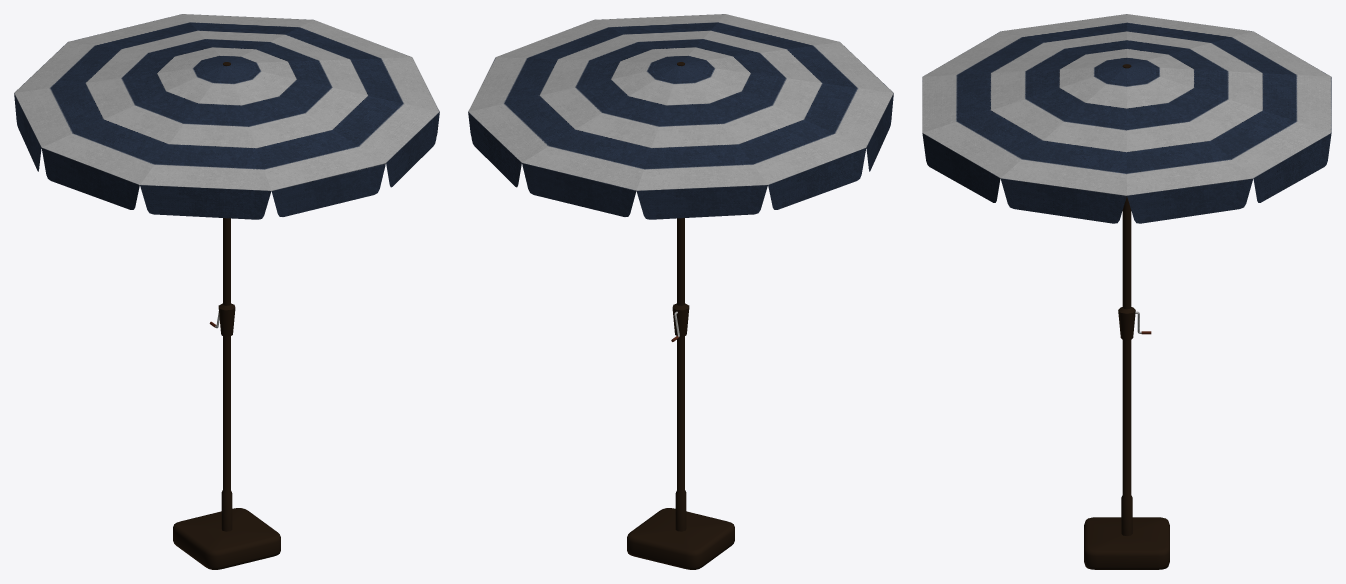
File: parasol open.FBX
3 renders of one model, left to right at view 1: azimuth 30°, elevation 25°; view 2: azimuth 150°, elevation 25°; view 3: azimuth 270°, elevation 25°, orthographic.
Parts seen in each view (by area): view 1: parasol open; view 2: parasol open; view 3: parasol open.
Part boxes in pixels (left/top/right/bottom): parasol open: left=14, top=14, right=439, bottom=569; parasol open: left=468, top=14, right=893, bottom=569; parasol open: left=922, top=14, right=1331, bottom=569.
Bounding box in the file's own units: 200 × 250 × 190.
